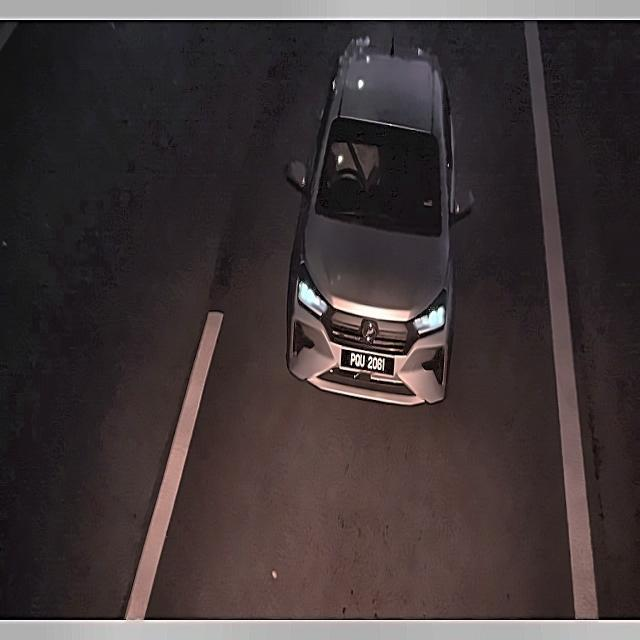car: (339, 344, 396, 381)
